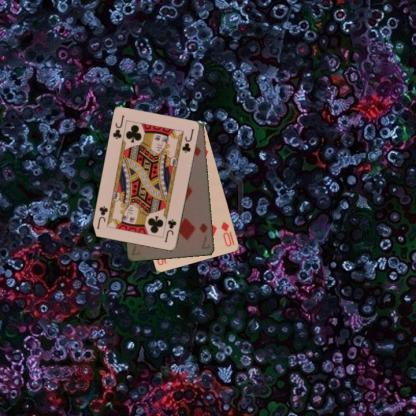10d: (218, 219, 236, 248)
7d: (196, 221, 212, 250)
Jc: (110, 113, 126, 142), (162, 216, 178, 244)
